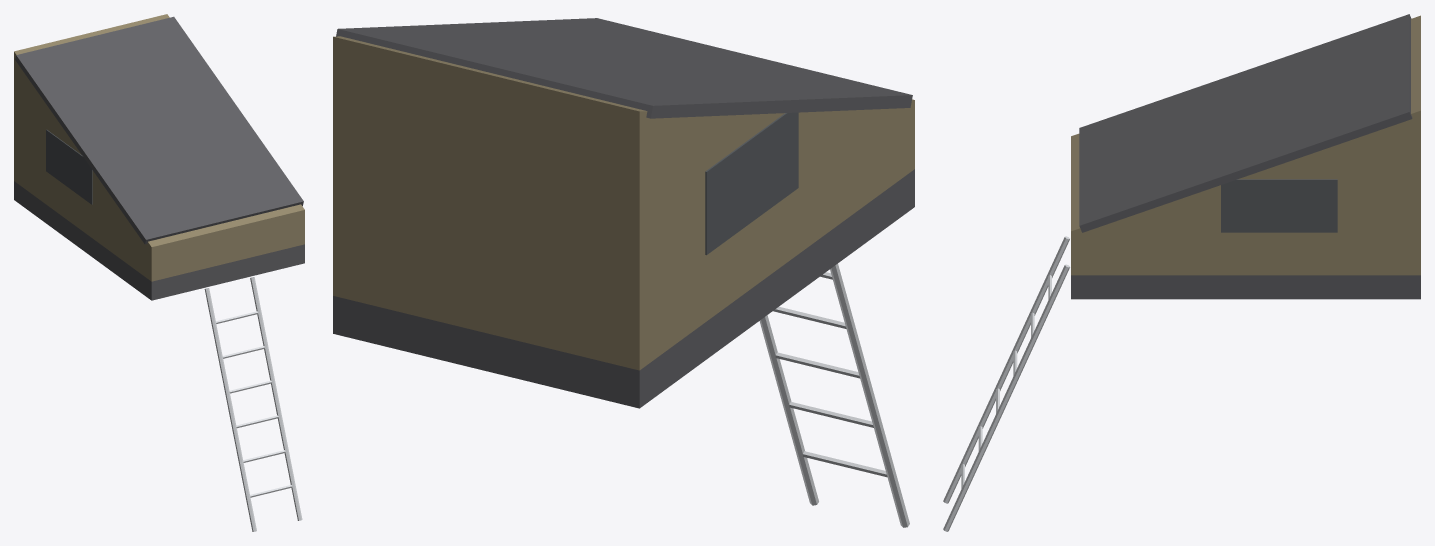
Rendered from tent_rooftop_custom.glb.
The picture shows the model from 3 angles, left to right: view 1: azimuth 30°, elevation 25°; view 2: azimuth 150°, elevation 25°; view 3: azimuth 270°, elevation 25°; orthographic projection. The views are drawn at different scales.
Visible parts, largest first — view 1: body; view 2: body; view 3: body.
Part boxes in pixels (x1=…): body: x1=14, y1=14, x2=304, y2=531; body: x1=333, y1=18, x2=914, y2=527; body: x1=943, y1=14, x2=1420, y2=531.
Size of the model in its own units: 1.39 by 3.01 by 2.87.
